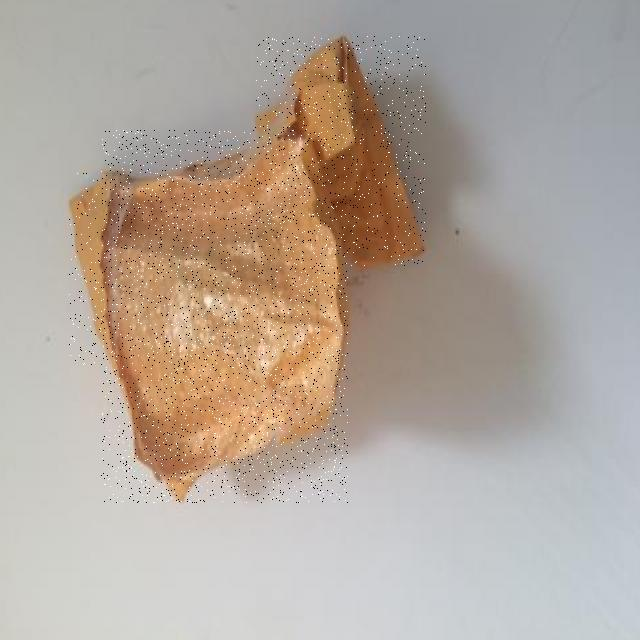paper: (256, 36, 426, 266), (69, 173, 123, 365)
plastic: (101, 130, 348, 503)
